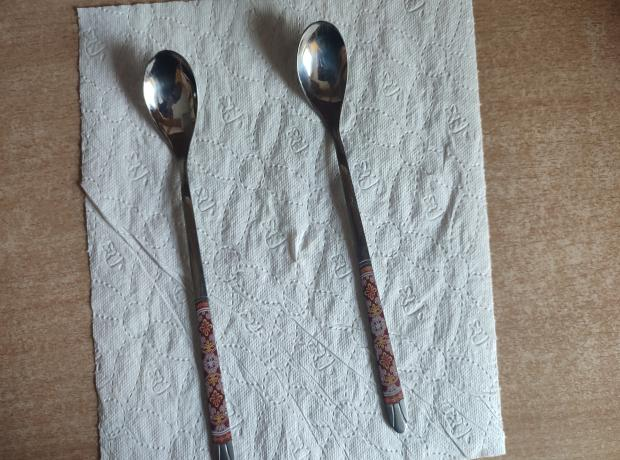metal: (296, 20, 408, 434), (143, 49, 236, 460)
